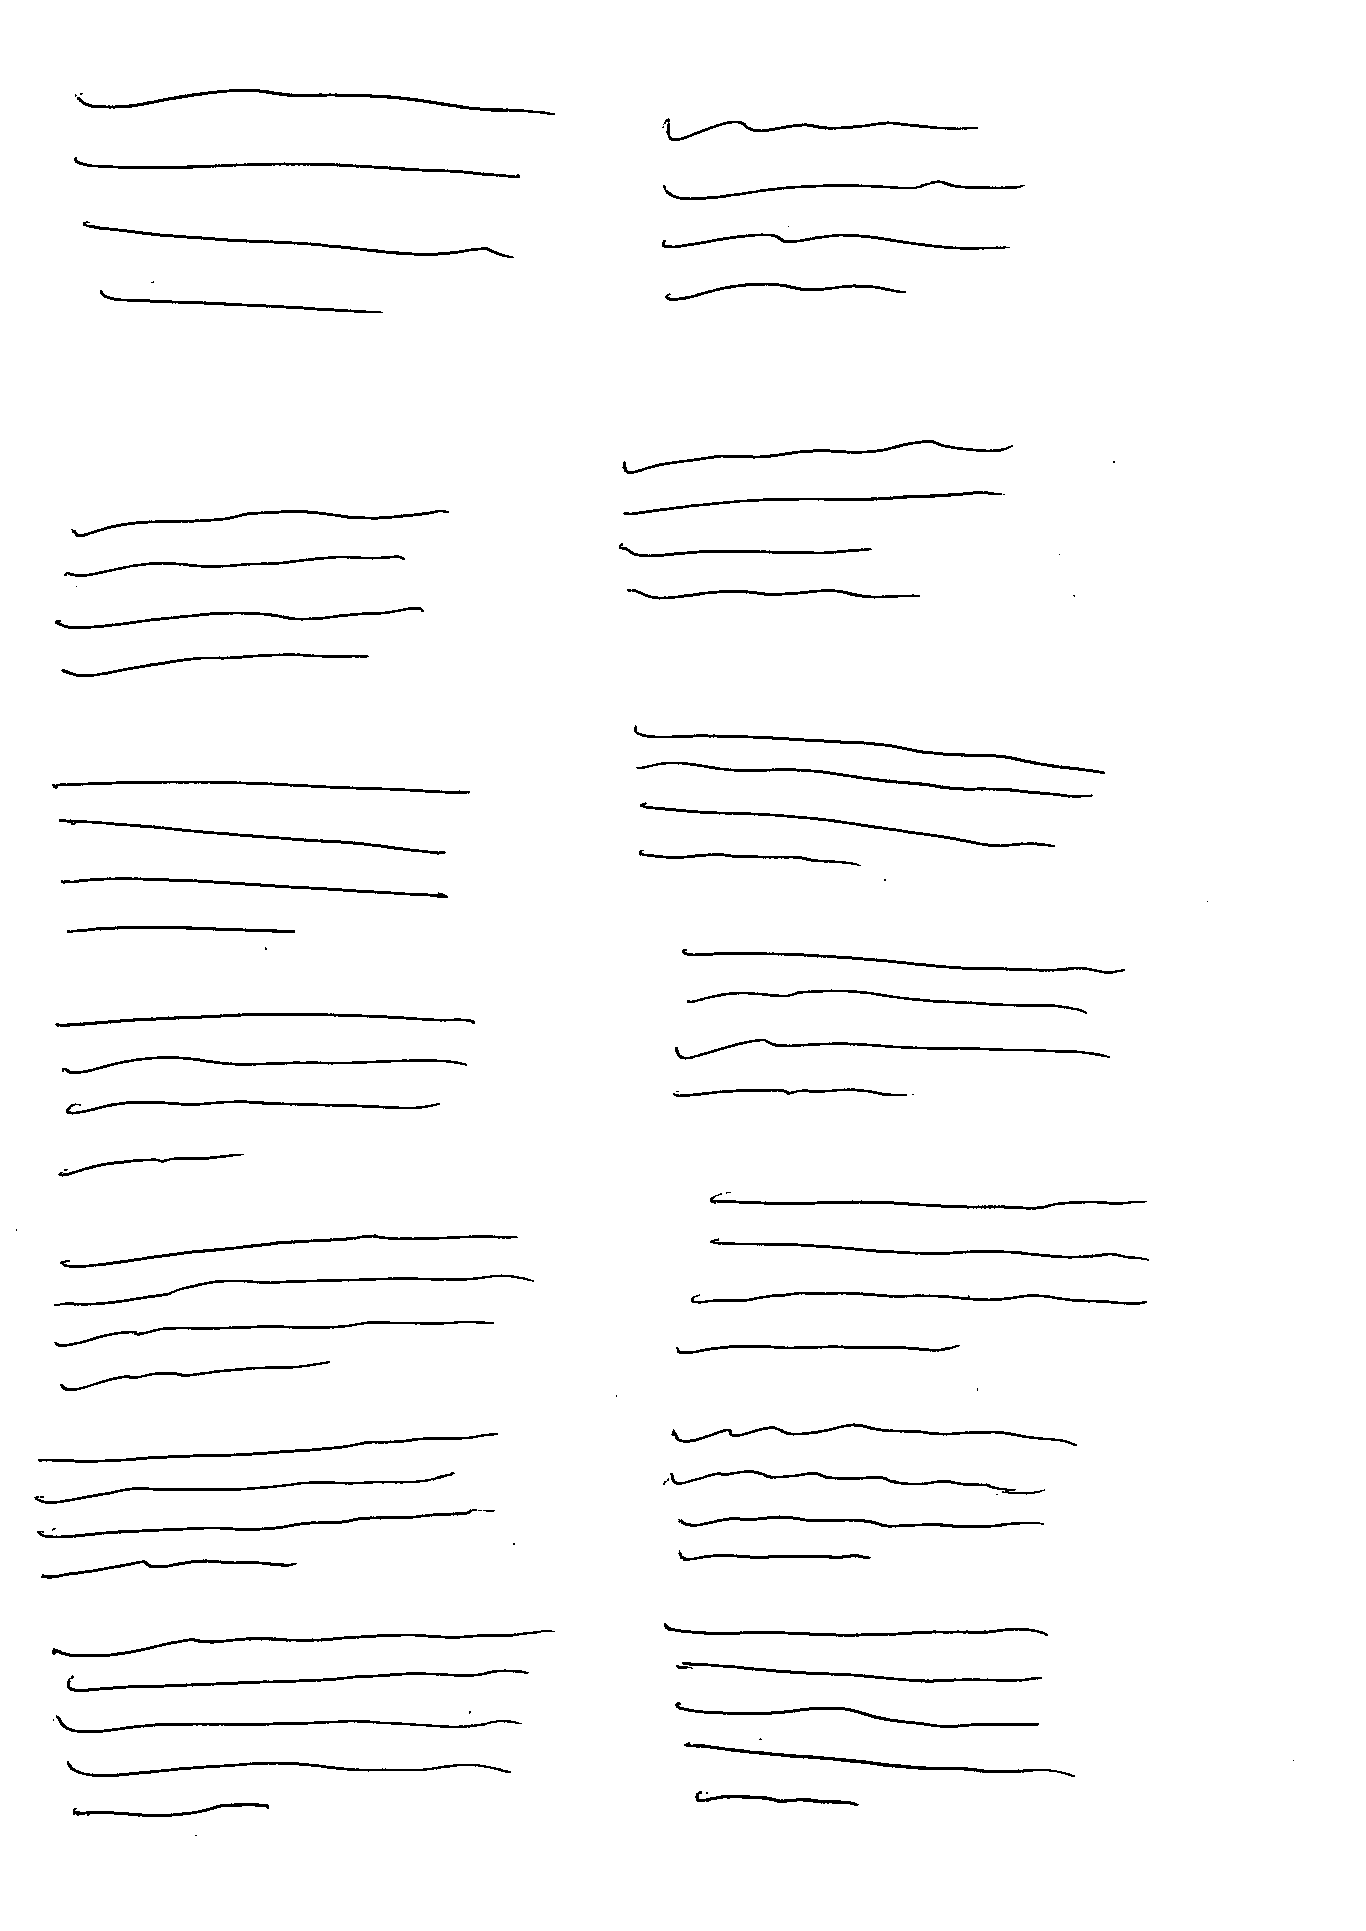Paragraph: (56, 81, 559, 319), (44, 1618, 559, 1823), (47, 1223, 537, 1400), (618, 716, 1112, 883), (668, 1195, 1162, 1362), (27, 1422, 509, 1591), (659, 946, 1127, 1115), (662, 1618, 1059, 1813), (50, 1005, 489, 1178), (609, 435, 1024, 615), (47, 767, 475, 940), (53, 497, 458, 676), (650, 112, 1030, 303), (665, 1419, 1073, 1576)
